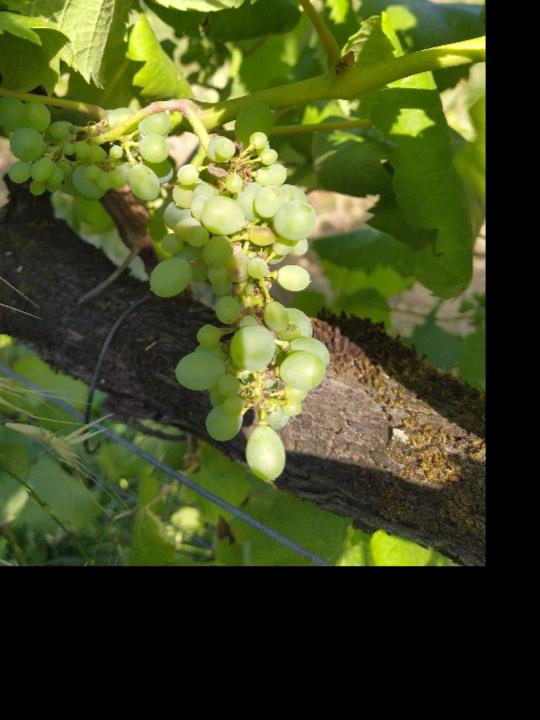grape: (0, 92, 336, 486)
